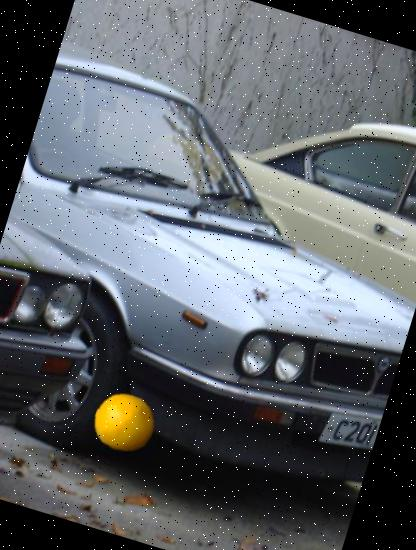Grapefruit: (86, 384, 162, 460)
